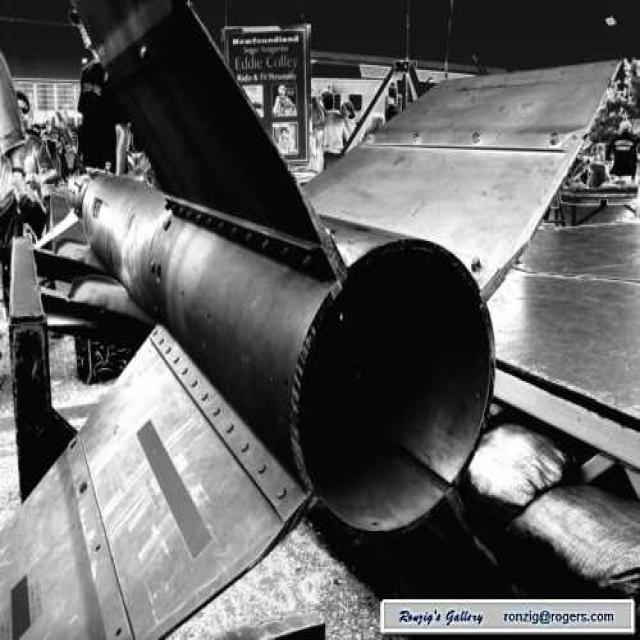missile: (72, 34, 620, 626)
